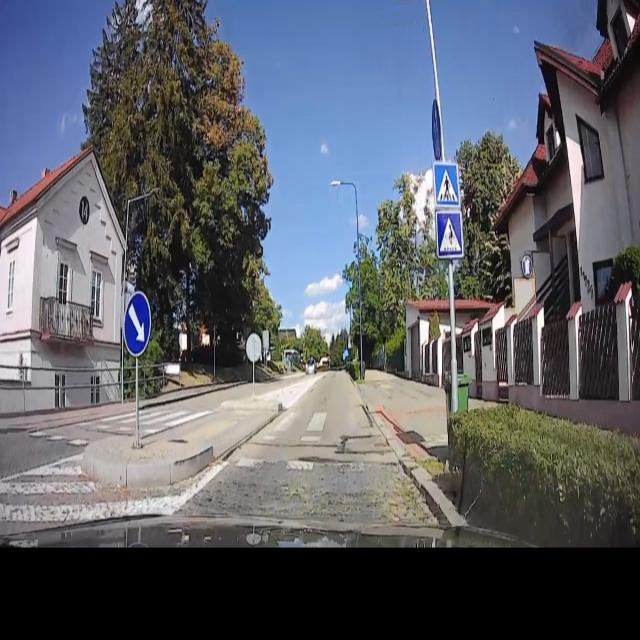Pedestrian crosswalk: (256, 395, 393, 478), (107, 408, 211, 429), (432, 160, 461, 206)
